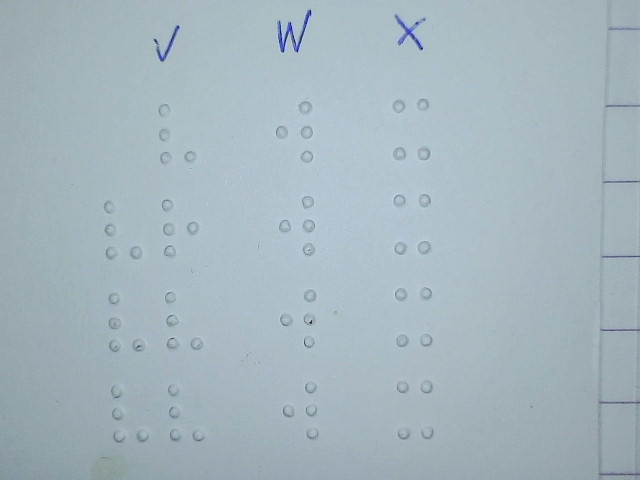V: (157, 101, 198, 167), (103, 196, 144, 262), (163, 288, 204, 354), (166, 380, 207, 446), (110, 380, 151, 446)
W: (274, 98, 315, 164), (277, 192, 318, 258), (277, 284, 318, 350), (281, 375, 322, 441)
X: (391, 95, 432, 161), (392, 190, 433, 256), (394, 282, 435, 348), (395, 376, 436, 442)
